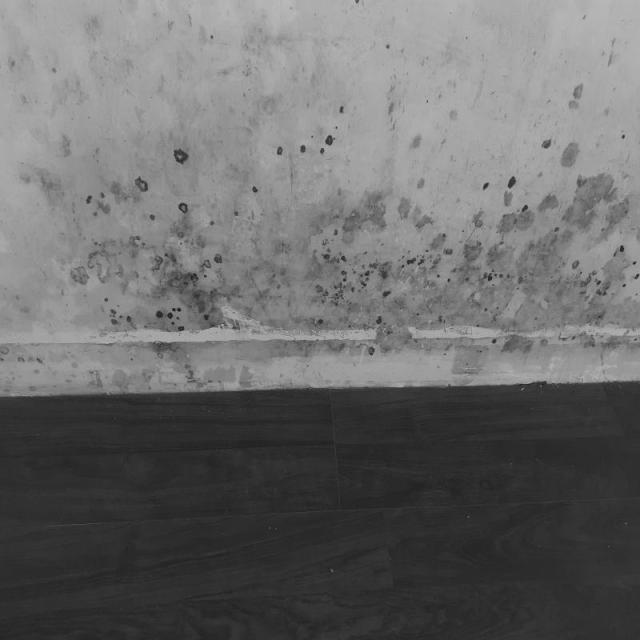stain marks: (2, 0, 639, 406)
